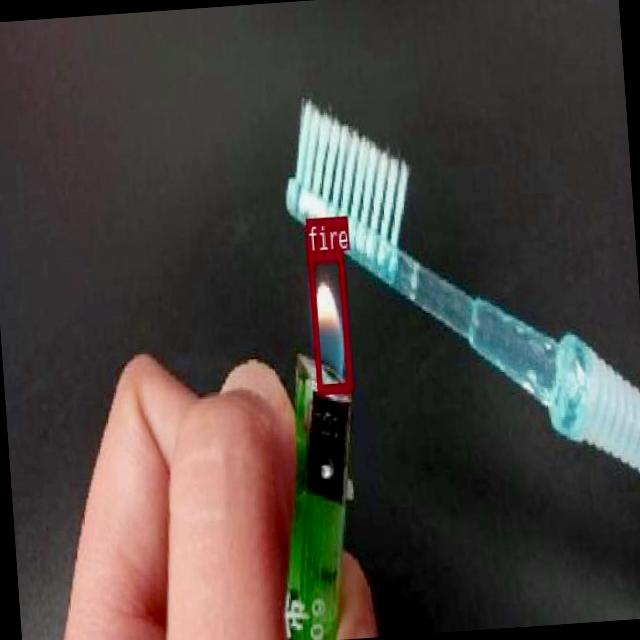fire: (306, 250, 352, 392)
